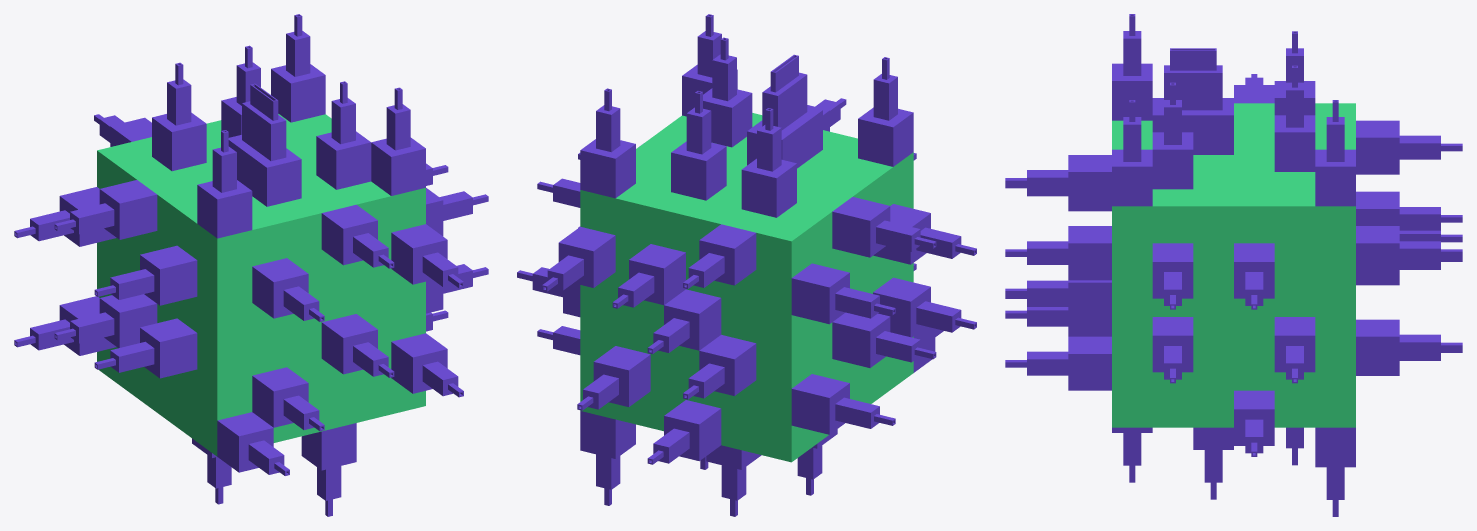
File: threeJSTest.glb
3 views of the same model, side by side, from view 1: azimuth 30°, elevation 25°; view 2: azimuth 150°, elevation 25°; view 3: azimuth 270°, elevation 25° (orthographic).
Visible parts, largest first — view 1: Cube; view 2: Cube; view 3: Cube.
Boxes of the visible parts, left/top/right/bottom form: Cube: left=14, top=14, right=488, bottom=516; Cube: left=517, top=14, right=976, bottom=516; Cube: left=1005, top=14, right=1462, bottom=516.
Size of the model in its own units: 3.75 by 3.75 by 3.75.
